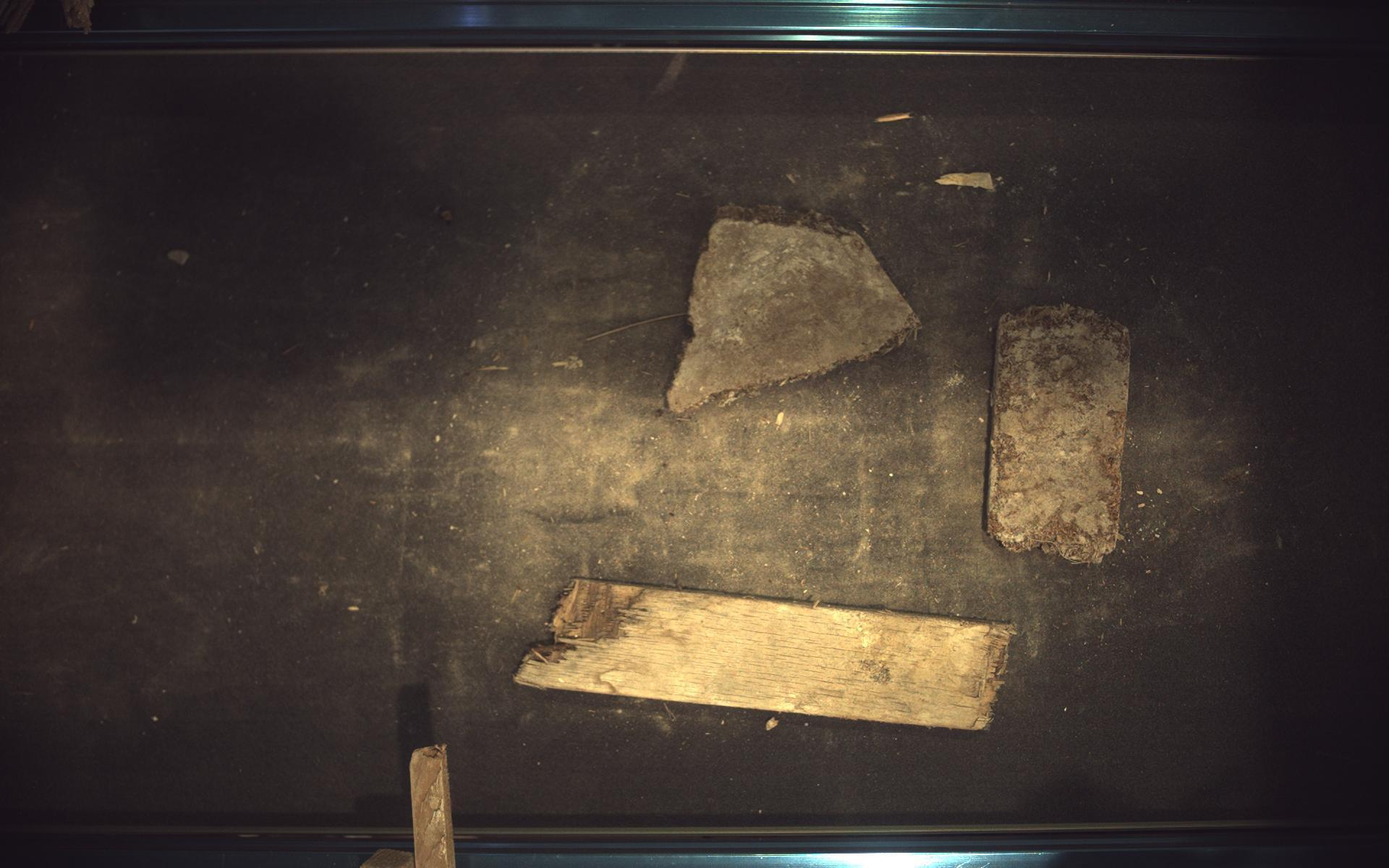wood: (515, 579, 1016, 731), (668, 205, 921, 414)
